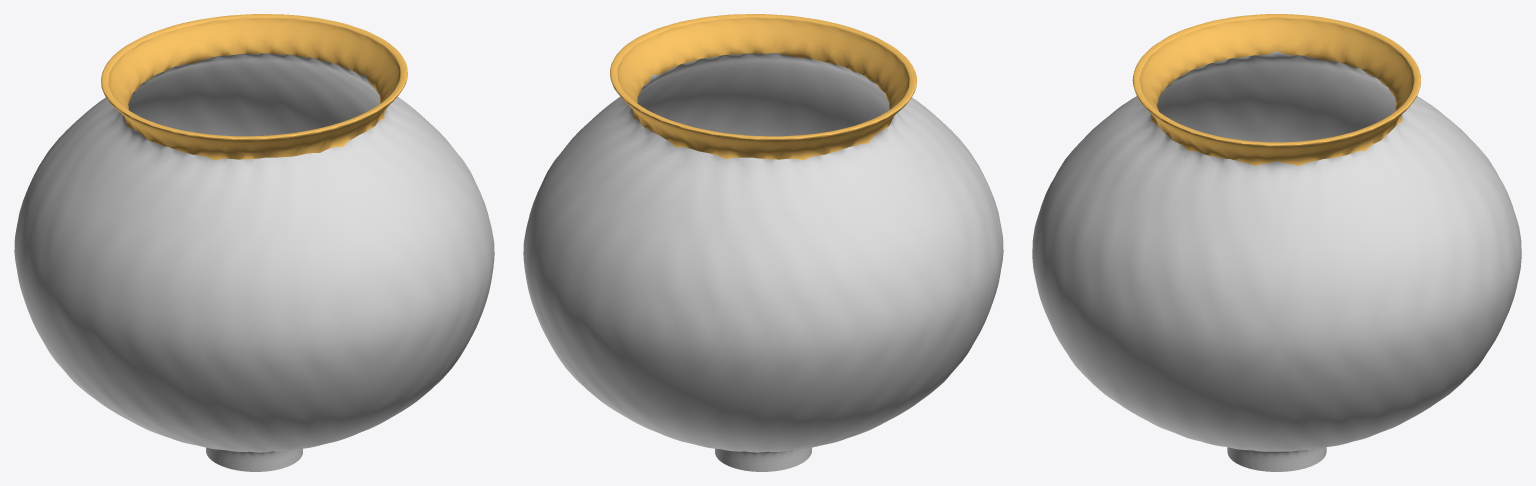
File: lamp.fbx
3 views of the same model, side by side, from view 1: azimuth 30°, elevation 25°; view 2: azimuth 150°, elevation 25°; view 3: azimuth 270°, elevation 25° (orthographic).
Parts seen in each view (by area): view 1: Glass; view 2: Glass; view 3: Glass.
Part boxes in pixels (x1,y1,x2,y2): Glass: (14, 14, 494, 471); Glass: (523, 14, 1003, 471); Glass: (1032, 14, 1521, 471).
Bounding box in the file's own units: 32.74 × 28.55 × 33.96.
